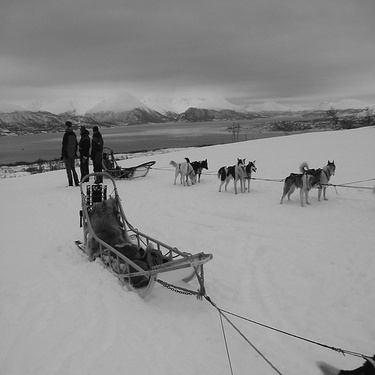dog: (280, 164, 322, 219), (295, 153, 339, 202), (215, 153, 251, 207), (229, 154, 258, 205), (169, 152, 199, 188), (181, 155, 211, 185)
